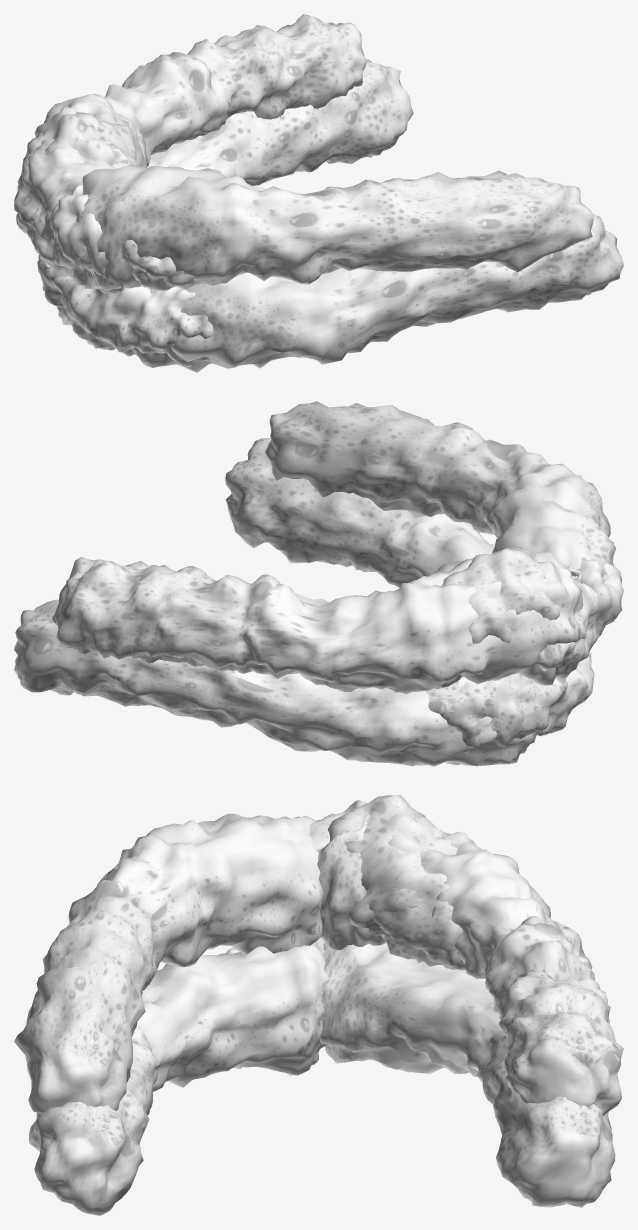
Rendered from foam.glb.
3 views of the same model, one above another, from view 1: azimuth 30°, elevation 25°; view 2: azimuth 150°, elevation 25°; view 3: azimuth 270°, elevation 25° (orthographic). The views are drawn at different scales.
Parts seen in each view (by area): view 1: Foam_upper_left, Foam_Lower_left, foam_upper_right, Foam_Front, Foam_lower_right_; view 2: foam_upper_right, Foam_upper_left, Foam_lower_right_, Foam_Front, Foam_Lower_left; view 3: Foam_upper_left, foam_upper_right, Foam_Lower_left, Foam_lower_right_, Foam_Front.
Boxes of the visible parts, bbox=[...] form: Foam_upper_left: bbox=[76, 164, 593, 290]; Foam_Lower_left: bbox=[131, 213, 623, 372]; foam_upper_right: bbox=[14, 14, 366, 257]; Foam_Front: bbox=[16, 112, 213, 366]; Foam_lower_right_: bbox=[57, 59, 413, 325]; foam_upper_right: bbox=[52, 551, 586, 694]; Foam_upper_left: bbox=[265, 401, 616, 636]; Foam_lower_right_: bbox=[14, 599, 552, 766]; Foam_Front: bbox=[412, 546, 623, 752]; Foam_Lower_left: bbox=[225, 438, 494, 588]; Foam_upper_left: bbox=[14, 813, 322, 1113]; foam_upper_right: bbox=[309, 800, 623, 1115]; Foam_Lower_left: bbox=[29, 944, 328, 1215]; Foam_lower_right_: bbox=[320, 942, 615, 1207]; Foam_Front: bbox=[219, 795, 465, 970].
Size of the model in its own units: 0.0828 by 0.0369 by 0.0813.
1 material, 1 textured.
